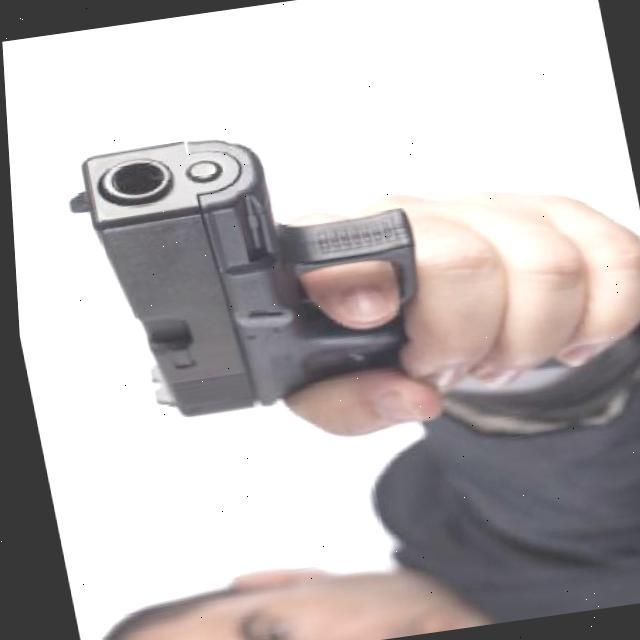gun: (46, 88, 575, 431)
